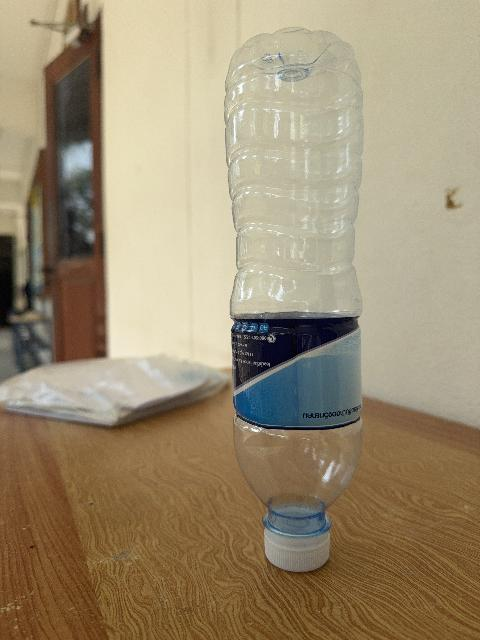bottle: (226, 29, 362, 570)
